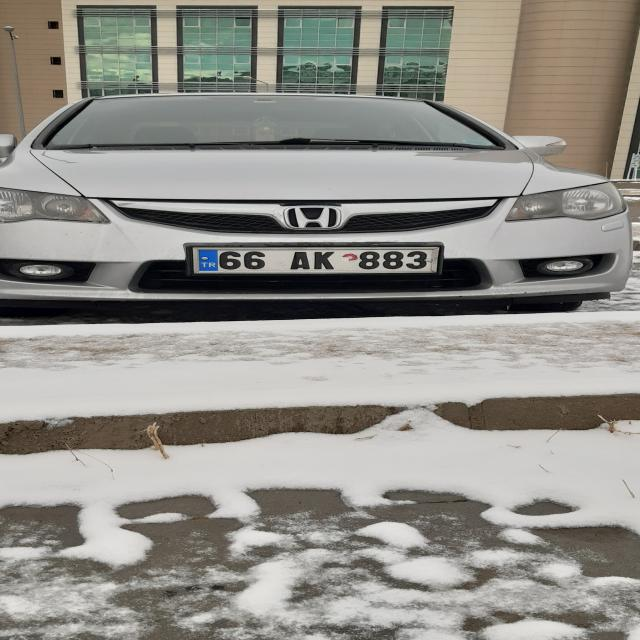license_plate: (196, 249, 434, 271)
